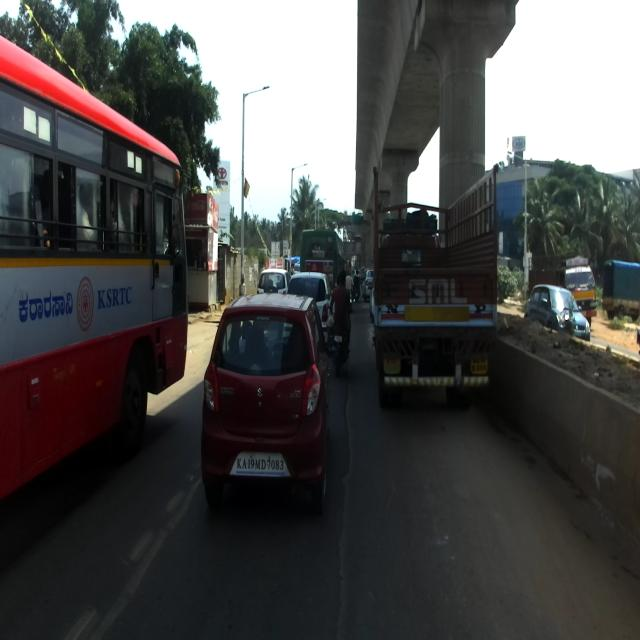bus ahead at: (0, 40, 192, 627)
car ahead at: (208, 289, 331, 528)
truck ahead at: (365, 170, 505, 410)
